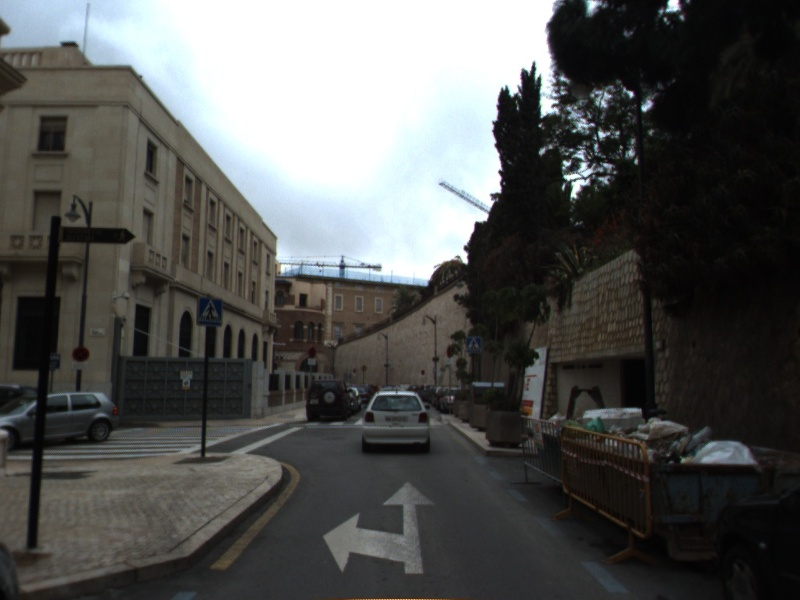STRAIGHT_LEFT: (321, 480, 437, 576)
